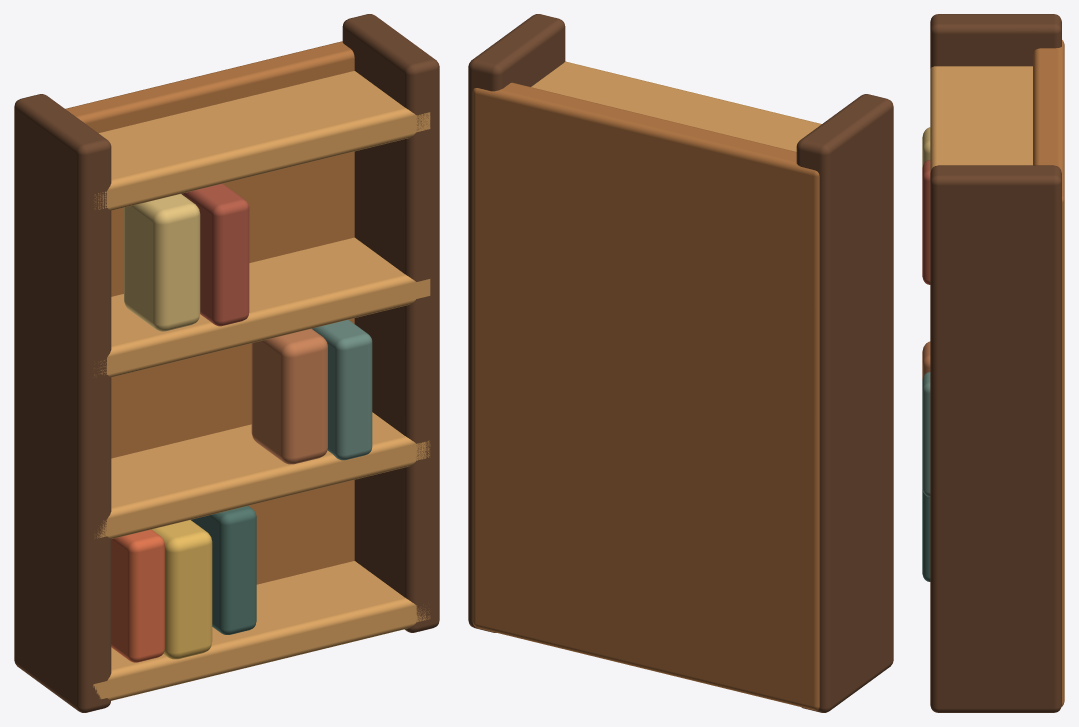
The model's file is bookshelf.glb.
3 renders of one model, left to right at view 1: azimuth 30°, elevation 25°; view 2: azimuth 150°, elevation 25°; view 3: azimuth 270°, elevation 25°, orthographic. The views are drawn at different scales.
Visible parts, largest first — view 1: SideLeft, Back, SideRight, Shelf3, Shelf1, Shelf2, Shelf0, Book5, Book3, Book6, Book0, Book1 (+2 smaller); view 2: Back, SideLeft, Shelf3, SideRight; view 3: SideRight, Shelf3, SideLeft, Back, Book4, Book6, Book2, Book5, Book3.
Part boxes in pixels (bbox=[...]): SideLeft: bbox=[14, 94, 111, 712]; Back: bbox=[65, 41, 354, 584]; SideRight: bbox=[342, 14, 439, 632]; Shelf3: bbox=[94, 71, 430, 210]; Shelf1: bbox=[94, 412, 430, 538]; Shelf2: bbox=[94, 237, 430, 377]; Shelf0: bbox=[93, 561, 430, 700]; Book5: bbox=[124, 194, 200, 331]; Book3: bbox=[251, 328, 327, 464]; Book6: bbox=[181, 183, 249, 326]; Book0: bbox=[111, 529, 164, 662]; Book1: bbox=[151, 520, 212, 659]; Back: bbox=[472, 82, 819, 710]; SideLeft: bbox=[796, 94, 893, 712]; Shelf3: bbox=[531, 61, 821, 151]; SideRight: bbox=[468, 14, 565, 632]; SideRight: bbox=[930, 165, 1061, 712]; Shelf3: bbox=[930, 66, 1032, 172]; SideLeft: bbox=[930, 14, 1061, 68]; Back: bbox=[1033, 40, 1064, 706]; Book4: bbox=[922, 372, 930, 496]; Book6: bbox=[922, 160, 930, 284]; Book2: bbox=[922, 489, 930, 581]; Book5: bbox=[922, 127, 930, 167]; Book3: bbox=[922, 341, 930, 379].
Size of the model in its own units: 1.5 by 2.25 by 0.54.
